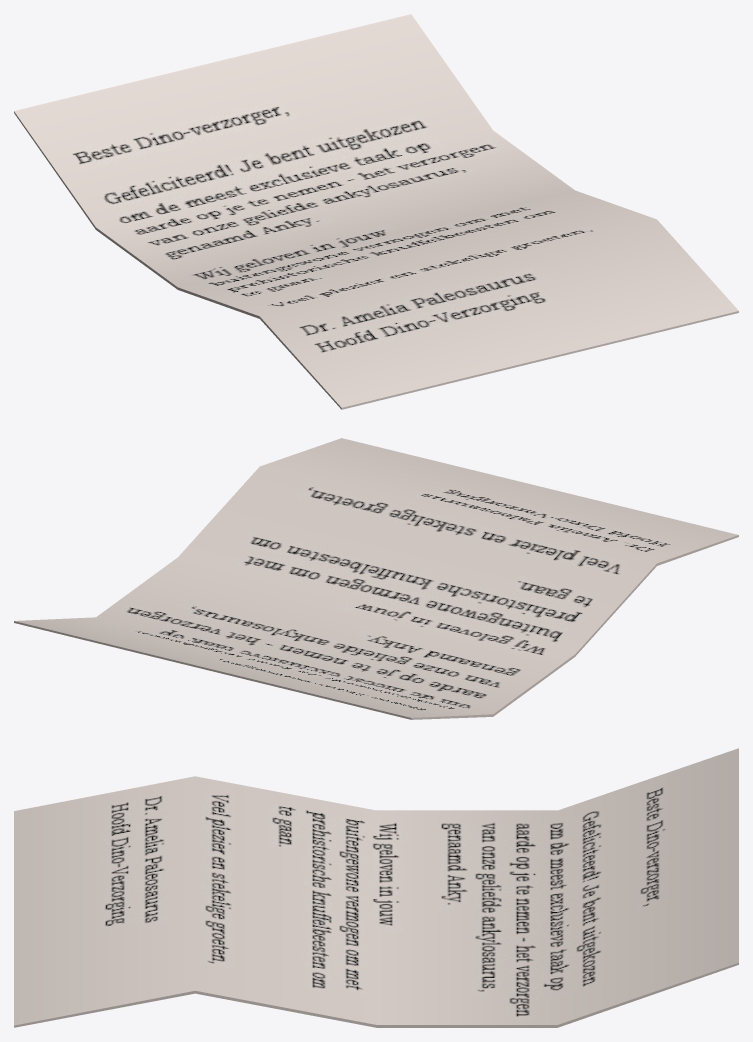
File: Letter.fbx
3 views of the same model, one above another, from view 1: azimuth 30°, elevation 25°; view 2: azimuth 150°, elevation 25°; view 3: azimuth 270°, elevation 25° (orthographic). The views are drawn at different scales.
Parts seen in each view (by area): view 1: Letter; view 2: Letter; view 3: Letter.
Boxes of the visible parts, x1,y1,x2,y2 form: Letter: (14, 14, 738, 409); Letter: (14, 438, 738, 719); Letter: (14, 748, 738, 1027).
Bounding box in the file's own units: 11.12 × 1.58 × 15.89.
